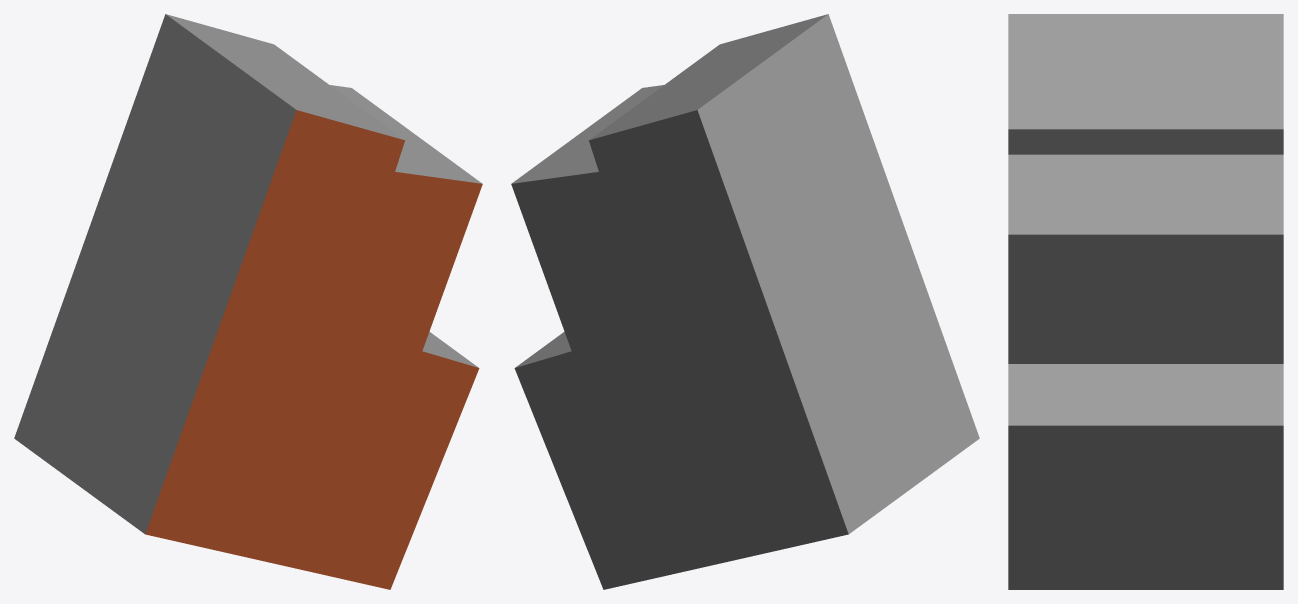
Rendered from construction_3203_assumed_A_Casa_h6m.obj.
3 views of the same model, side by side, from view 1: azimuth 30°, elevation 25°; view 2: azimuth 150°, elevation 25°; view 3: azimuth 270°, elevation 25° (orthographic). The views are drawn at different scales.
Parts seen in each view (by area): view 1: construction_3203_assumed_A_Casa; view 2: construction_3203_assumed_A_Casa; view 3: construction_3203_assumed_A_Casa.
Boxes of the visible parts, x1=… form: construction_3203_assumed_A_Casa: x1=14, y1=14, x2=482, y2=589; construction_3203_assumed_A_Casa: x1=511, y1=14, x2=979, y2=589; construction_3203_assumed_A_Casa: x1=1008, y1=14, x2=1283, y2=589.
Bounding box in the file's own units: 8.92 × 12.7 × 6.
